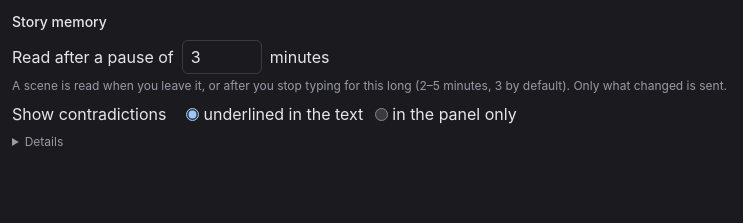
Scenario: MemorySettings (F-16.16, F-16.19) › commits the idle minutes clamped to 2–5, and shows agreement, cut-offs and health
This screenshot has width=743, height=223.
Replace the text in the number field named "Read after a pause of (minutes)" with "9": (222,57) [182,40,262,74]
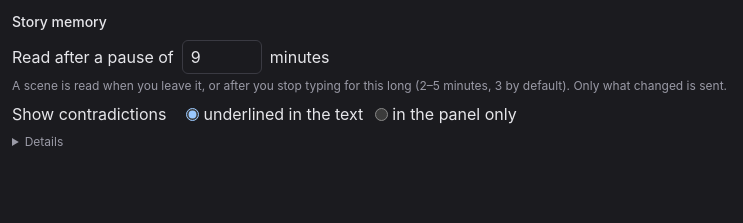
Leave the number field named "Read after a pause of (minutes)", box [182,40,262,74]
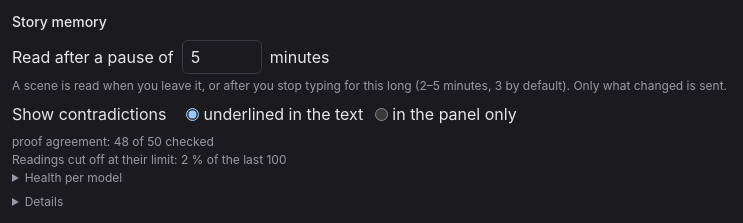
Now the element with test id "memory-health" shows "proof agreement: 48 of 50 checked", box [12,134,214,149]
Now the element with test id "memory-health" shows "Readings cut off at their limit: 2 % of the last 100", box [12,134,286,185]
